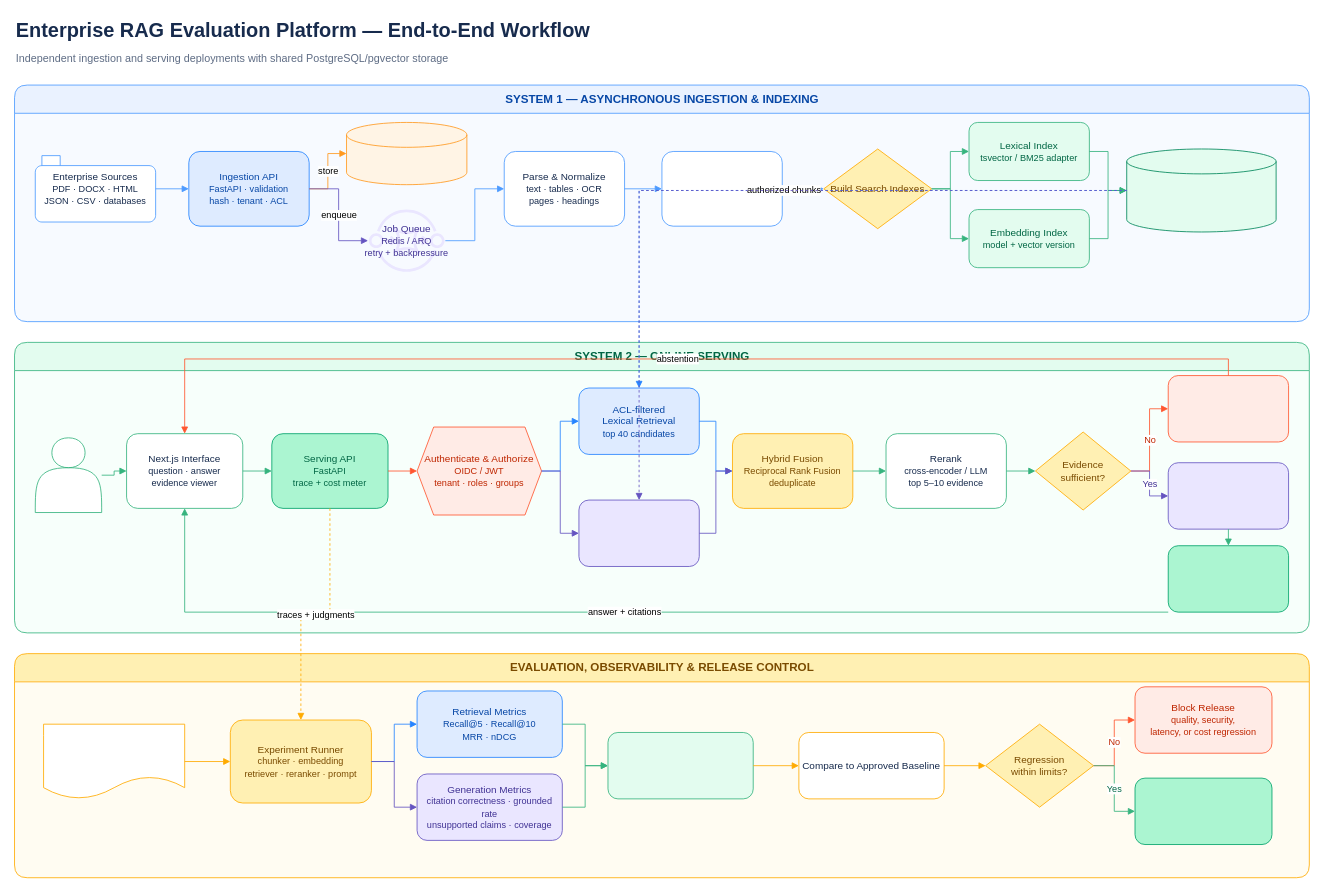
This 1324x892 diagram has some shape labels left out. Here are the shapes that lost their labels. From the top down, the centre of each, then its label:
At point 406,153: "Immutable Originals S3 / MinIO versioned source files".
At point 721,188: "Chunk & Enrich configurable strategy metadata + provenance".
At point 1201,190: "PostgreSQL + pgvector documents · versions · chunks metadata · ACL · HNSW".
At point 1228,408: "Abstain explain insufficient or conflicting evidence".
At point 68,475: "Authorized User".
At point 1228,495: "Grounded Generation structured claims evidence IDs only".
At point 638,532: "ACL-filtered Vector Retrieval top 40 candidates".
At point 1228,578: "Citation Validator known IDs · authorized claim support · locations".
At point 114,761: "Golden Q&A Dataset questions · expected evidence answers · ACL scenarios".
At point 680,765: "Operational Metrics p50/p95 latency cost per successful answer".
At point 1203,811: "Promote Release versioned config independent deployment".
